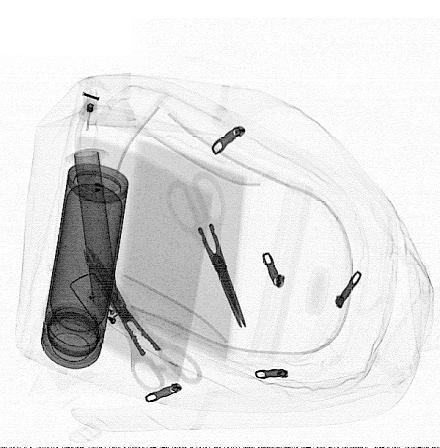Scissors: (79, 241, 206, 398), (163, 165, 249, 334)
